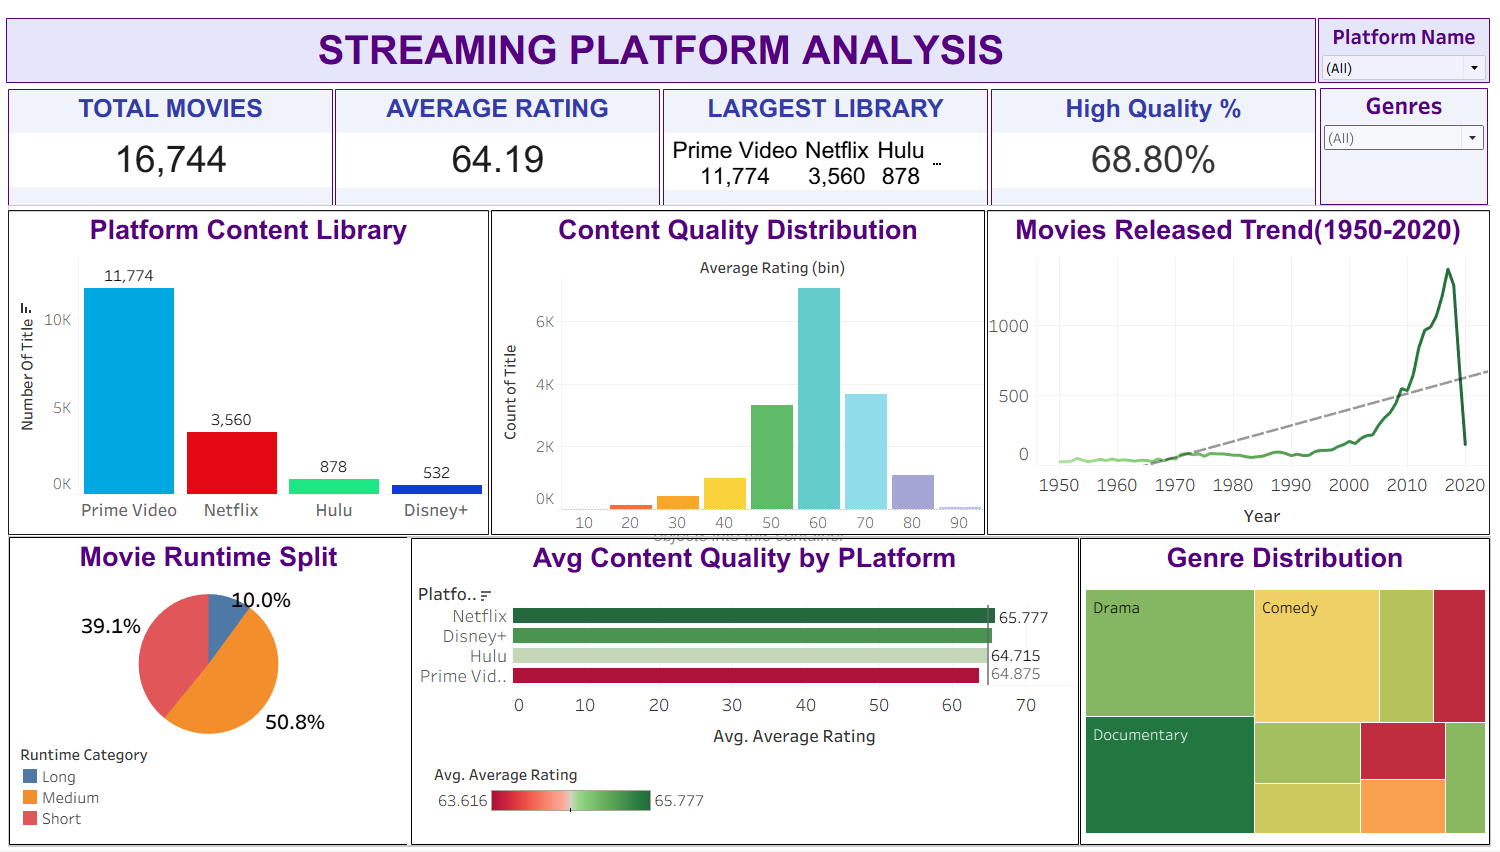

The dashboard page shown, as its layout file describes it:
{"tool":"tableau","page":{"name":"Dashboard 1","canvas":[1500,850],"ordinal":0},"visuals":[{"type":"text","box":[1,13,1320,75]},{"type":"filter","title":"Platform Distribution","param":"[federated.0kpfwow0wuz01914u3obf1eavg9q].[none:Calculation_2769162382331904:nk]","box":[1318,18,172,65]},{"type":"filter","title":"Genre Mix","param":"[federated.0kpfwow0wuz01914u3obf1eavg9q].[none:Genres:nk]","box":[1320,88,168,117]},{"type":"worksheet","title":"TOTAL MOVIES","mark":"Text","box":[8,89,325,117]},{"type":"worksheet","title":"AVERAGE RATING","mark":"Automatic","box":[335,89,325,117]},{"type":"worksheet","title":"LARGEST LIBRARY","mark":"Automatic","box":[663,89,325,117]},{"type":"worksheet","title":"High Quality %","mark":"Automatic","box":[991,89,325,117]},{"type":"worksheet","title":"Platform Distribution","mark":"Bar","rows":["Title"],"cols":["Calculation_2769162382331904"],"box":[7.5,210.4,481.2,325.1]},{"type":"worksheet","title":"Rating Spread","mark":"Bar","rows":["Title"],"cols":["Average Rating (bin)"],"box":[491.2,210.4,493.8,325.1]},{"type":"worksheet","title":"Release Trends","mark":"Automatic","rows":["Title"],"cols":["Year"],"box":[987.5,210.4,502.5,325.1]},{"type":"legend","title":"Platform Distribution","param":"[federated.0kpfwow0wuz01914u3obf1eavg9q].[none:Calculation_2769162382331904:nk]","box":[545,273.1,175,112.6]},{"type":"worksheet","title":"Runtime Split","mark":"Pie","box":[8.7,536.6,398.7,308.1]},{"type":"worksheet","title":"Platform Quality","mark":"Bar","rows":["Calculation_2769162382331904"],"cols":["Average_Rating"],"box":[411.3,537.6,667.5,307.1]},{"type":"worksheet","title":"Genre Mix","mark":"Automatic","box":[1080,537.6,410,307.1]},{"type":"legend","title":"Runtime Split","param":"[federated.0kpfwow0wuz01914u3obf1eavg9q].[none:Runtime_Category:nk]","box":[20,743.8,175,90.3]},{"type":"legend","title":"Platform Quality","param":"[federated.0kpfwow0wuz01914u3obf1eavg9q].[avg:Average_Rating:qk]","box":[433.8,763.9,275,60.6]}]}

Visuals, with their boxes in screenshot pixels (x1, y1, x2, y2), scaled from the page's 1500x850 canvas onto the 1500x852 screenshot:
text: BBox(1, 13, 1321, 88)
"Platform Distribution" filter: BBox(1318, 18, 1490, 83)
"Genre Mix" filter: BBox(1320, 88, 1488, 205)
"TOTAL MOVIES" worksheet (Text marks): BBox(8, 89, 333, 206)
"AVERAGE RATING" worksheet: BBox(335, 89, 660, 206)
"LARGEST LIBRARY" worksheet: BBox(663, 89, 988, 206)
"High Quality %" worksheet: BBox(991, 89, 1316, 206)
"Platform Distribution" worksheet (Bar marks): BBox(8, 211, 489, 537)
"Rating Spread" worksheet (Bar marks): BBox(491, 211, 985, 537)
"Release Trends" worksheet: BBox(988, 211, 1490, 537)
"Platform Distribution" legend: BBox(545, 274, 720, 387)
"Runtime Split" worksheet (Pie marks): BBox(9, 538, 407, 847)
"Platform Quality" worksheet (Bar marks): BBox(411, 539, 1079, 847)
"Genre Mix" worksheet: BBox(1080, 539, 1490, 847)
"Runtime Split" legend: BBox(20, 746, 195, 836)
"Platform Quality" legend: BBox(434, 766, 709, 826)
